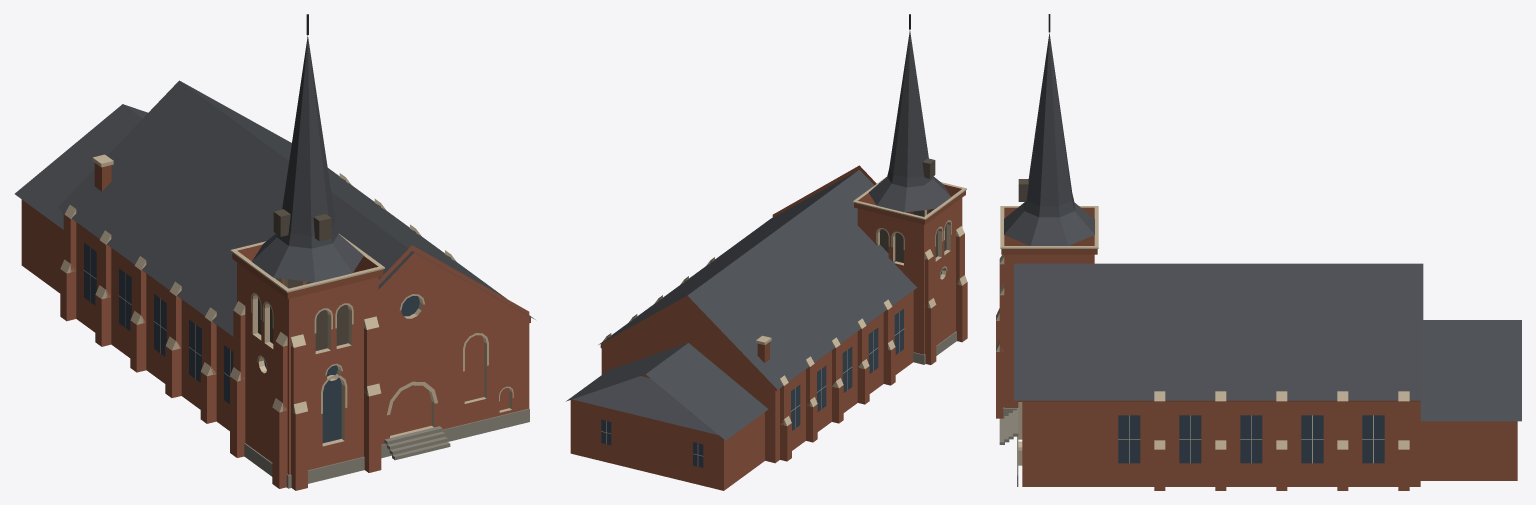
File: first-presbyterian-1913.glb
3 renders of one model, left to right at view 1: azimuth 30°, elevation 25°; view 2: azimuth 150°, elevation 25°; view 3: azimuth 270°, elevation 25°, orthographic. The views are drawn at different scales.
Visible parts, largest first — view 1: first_brick, first_slate, first_trim, first_stain, first_base, first_louvre, first_brick2; view 2: first_slate, first_brick, first_stain, first_trim, first_brick2, first_louvre; view 3: first_slate, first_brick, first_stain, first_trim, first_brick2, first_base.
Boxes of the visible parts, x1=… form: first_brick: x1=21, y1=180, x2=529, y2=490; first_slate: x1=15, y1=35, x2=535, y2=336; first_trim: x1=60, y1=154, x2=513, y2=446; first_stain: x1=84, y1=243, x2=419, y2=443; first_base: x1=244, y1=408, x2=529, y2=488; first_louvre: x1=258, y1=209, x2=348, y2=350; first_brick2: x1=63, y1=163, x2=530, y2=336; first_slate: x1=566, y1=30, x2=950, y2=440; first_brick: x1=570, y1=165, x2=967, y2=490; first_stain: x1=601, y1=270, x2=942, y2=467; first_trim: x1=603, y1=176, x2=967, y2=426; first_brick2: x1=600, y1=190, x2=965, y2=390; first_louvre: x1=880, y1=158, x2=946, y2=262; first_slate: x1=1004, y1=32, x2=1521, y2=421; first_brick: x1=996, y1=207, x2=1517, y2=490; first_stain: x1=1118, y1=415, x2=1384, y2=463; first_trim: x1=996, y1=206, x2=1409, y2=465; first_brick2: x1=1001, y1=249, x2=1420, y2=401; first_base: x1=999, y1=407, x2=1018, y2=486.
Bounding box in the file's own units: 19.3 × 30.7 × 37.9.
